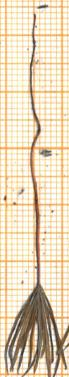flower: (0, 280, 69, 377)
root: (26, 12, 43, 152)
stem: (25, 152, 44, 283)
